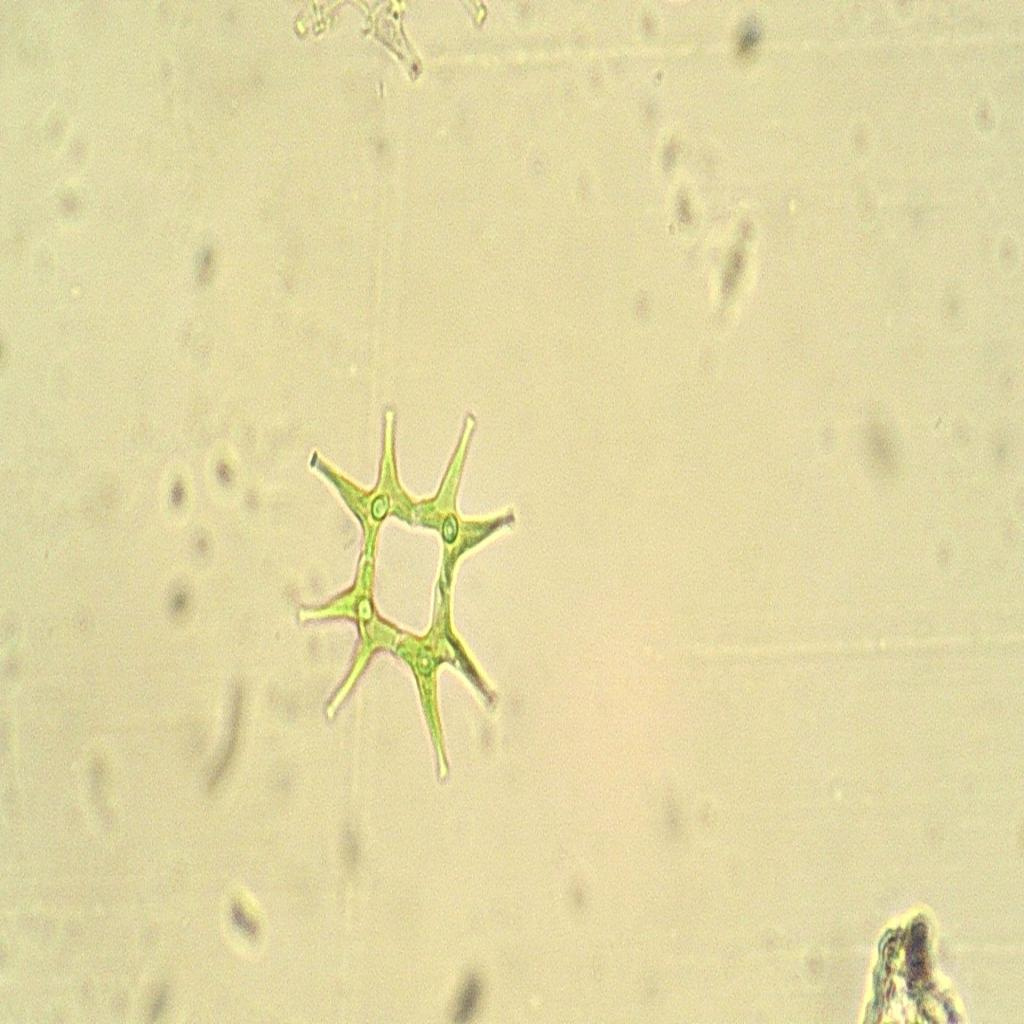Pediastrum_10: (286, 374, 530, 807)
